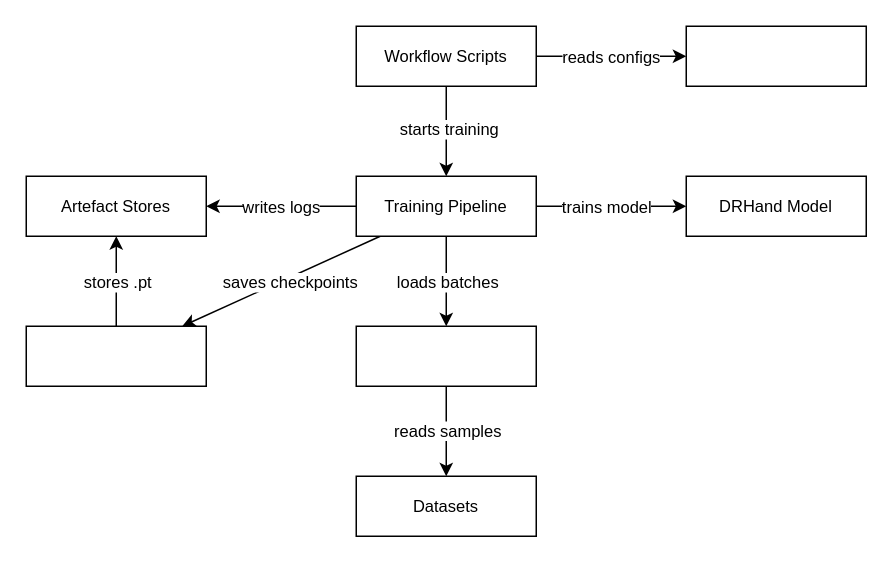
Some shapes in this 893 by 563 pixel diagram are drawn without their labels. The shapes that lost their labels are listed below. From the top down, each one's box as (x1, y1, x2, y2) in pixels, then its label:
(685, 25, 866, 86): Experiment Definitions
(25, 325, 206, 386): Checkpoint Manager
(355, 325, 536, 386): Data Layer
